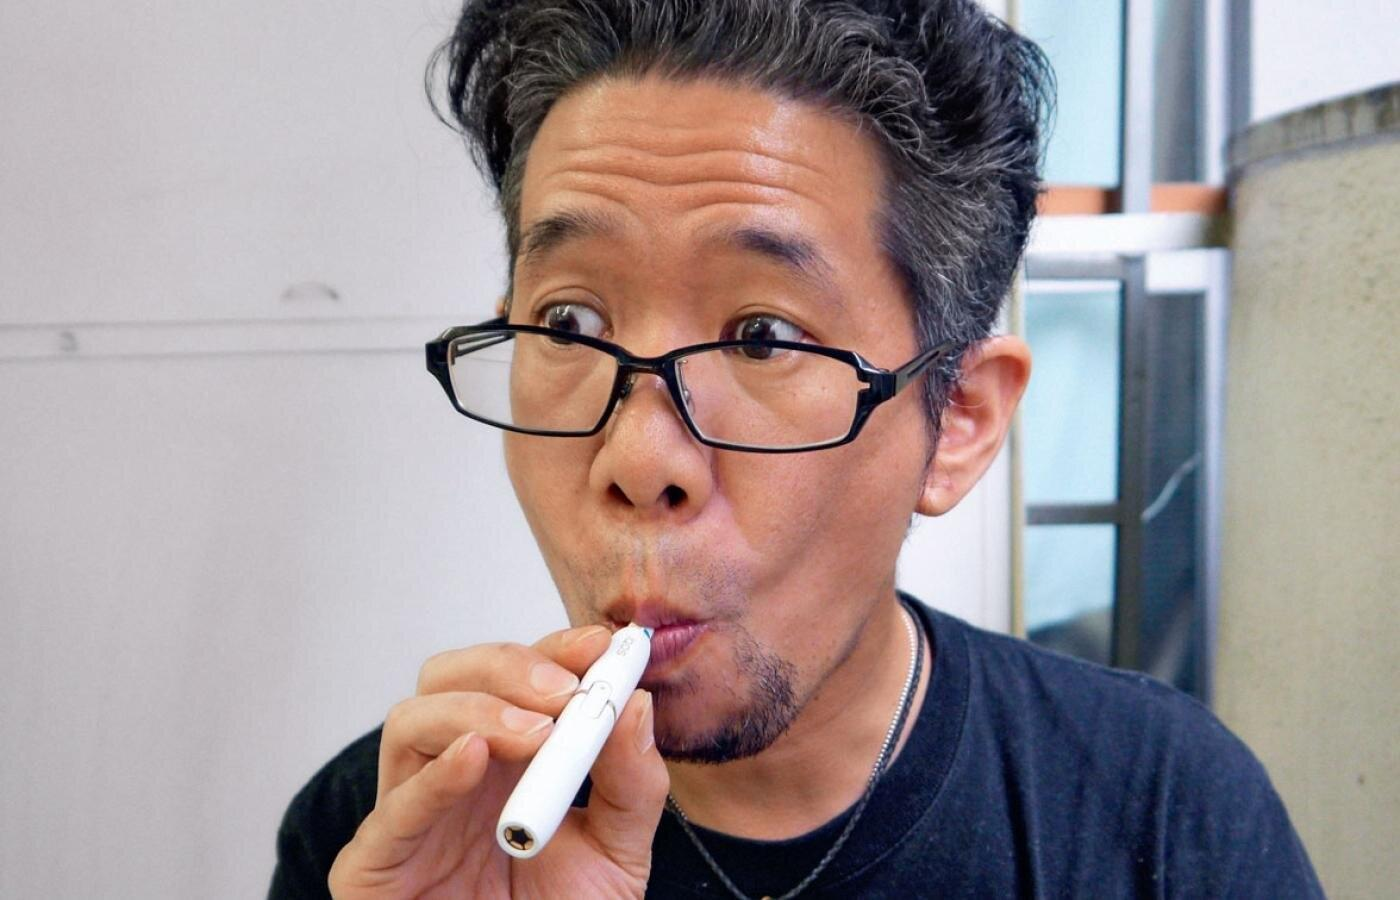iqos: (496, 623, 652, 858)
